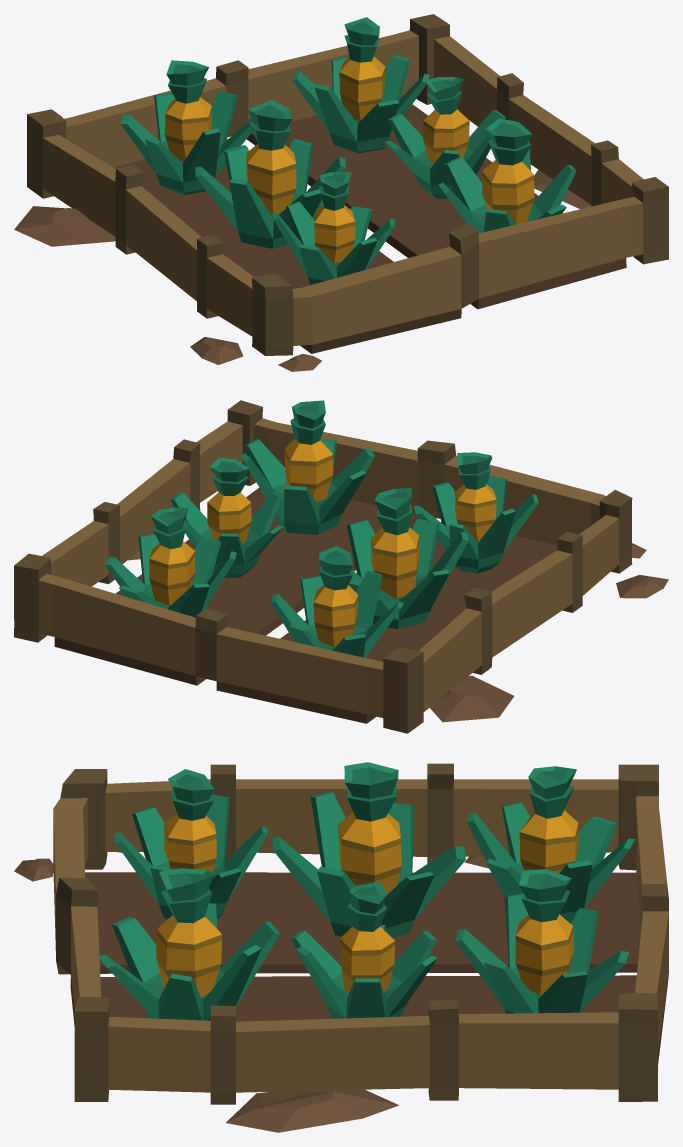
File: NativeFarmAnanas_Alt1.fbx
3 views of the same model, one above another, from view 1: azimuth 30°, elevation 25°; view 2: azimuth 150°, elevation 25°; view 3: azimuth 270°, elevation 25° (orthographic). The views are drawn at different scales.
Visible parts, largest first — view 1: AnanasFarm_Alt1; view 2: AnanasFarm_Alt1; view 3: AnanasFarm_Alt1.
Boxes of the visible parts, x1,y1,x2,y2 form: AnanasFarm_Alt1: (14,14,668,371); AnanasFarm_Alt1: (14,400,668,733); AnanasFarm_Alt1: (14,762,668,1132).
Size of the model in its own units: 251 by 65.19 by 224.
